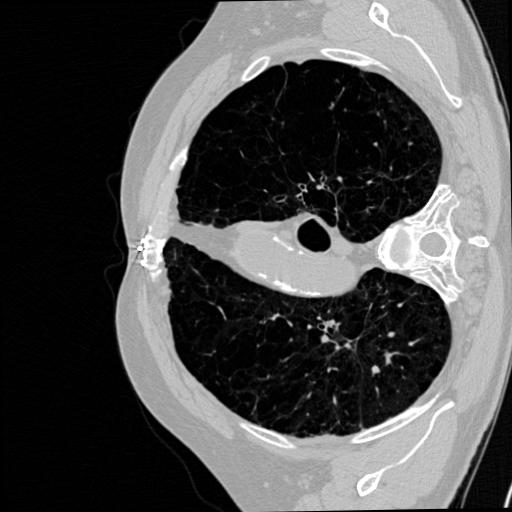nodule: (369, 363, 381, 375)
